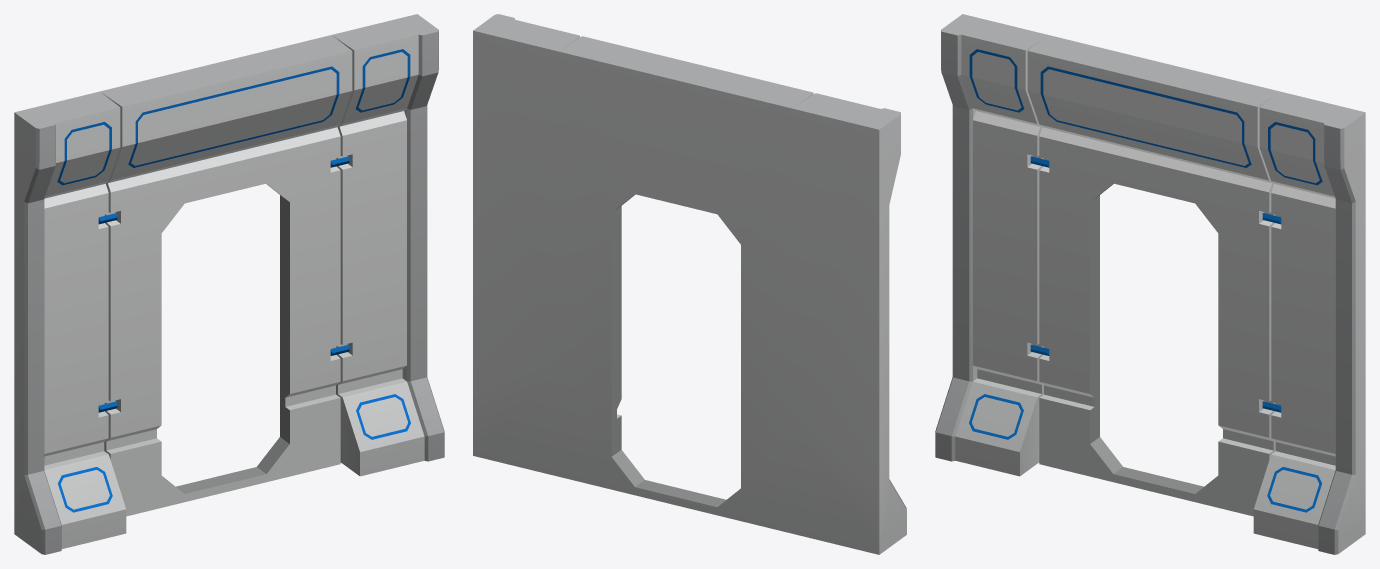
File: Wall_type_A_059.fbx
3 renders of one model, left to right at view 1: azimuth 30°, elevation 25°; view 2: azimuth 150°, elevation 25°; view 3: azimuth 330°, elevation 25°, orthographic.
Parts seen in each view (by area): view 1: Wall_type_A_059; view 2: Wall_type_A_059; view 3: Wall_type_A_059.
Part boxes in pixels (box(x1,y1,x2,y2)): Wall_type_A_059: box(14, 14, 444, 554); Wall_type_A_059: box(473, 14, 906, 554); Wall_type_A_059: box(935, 14, 1365, 554).
Bounding box in the file's own units: 400 × 50 × 400.
